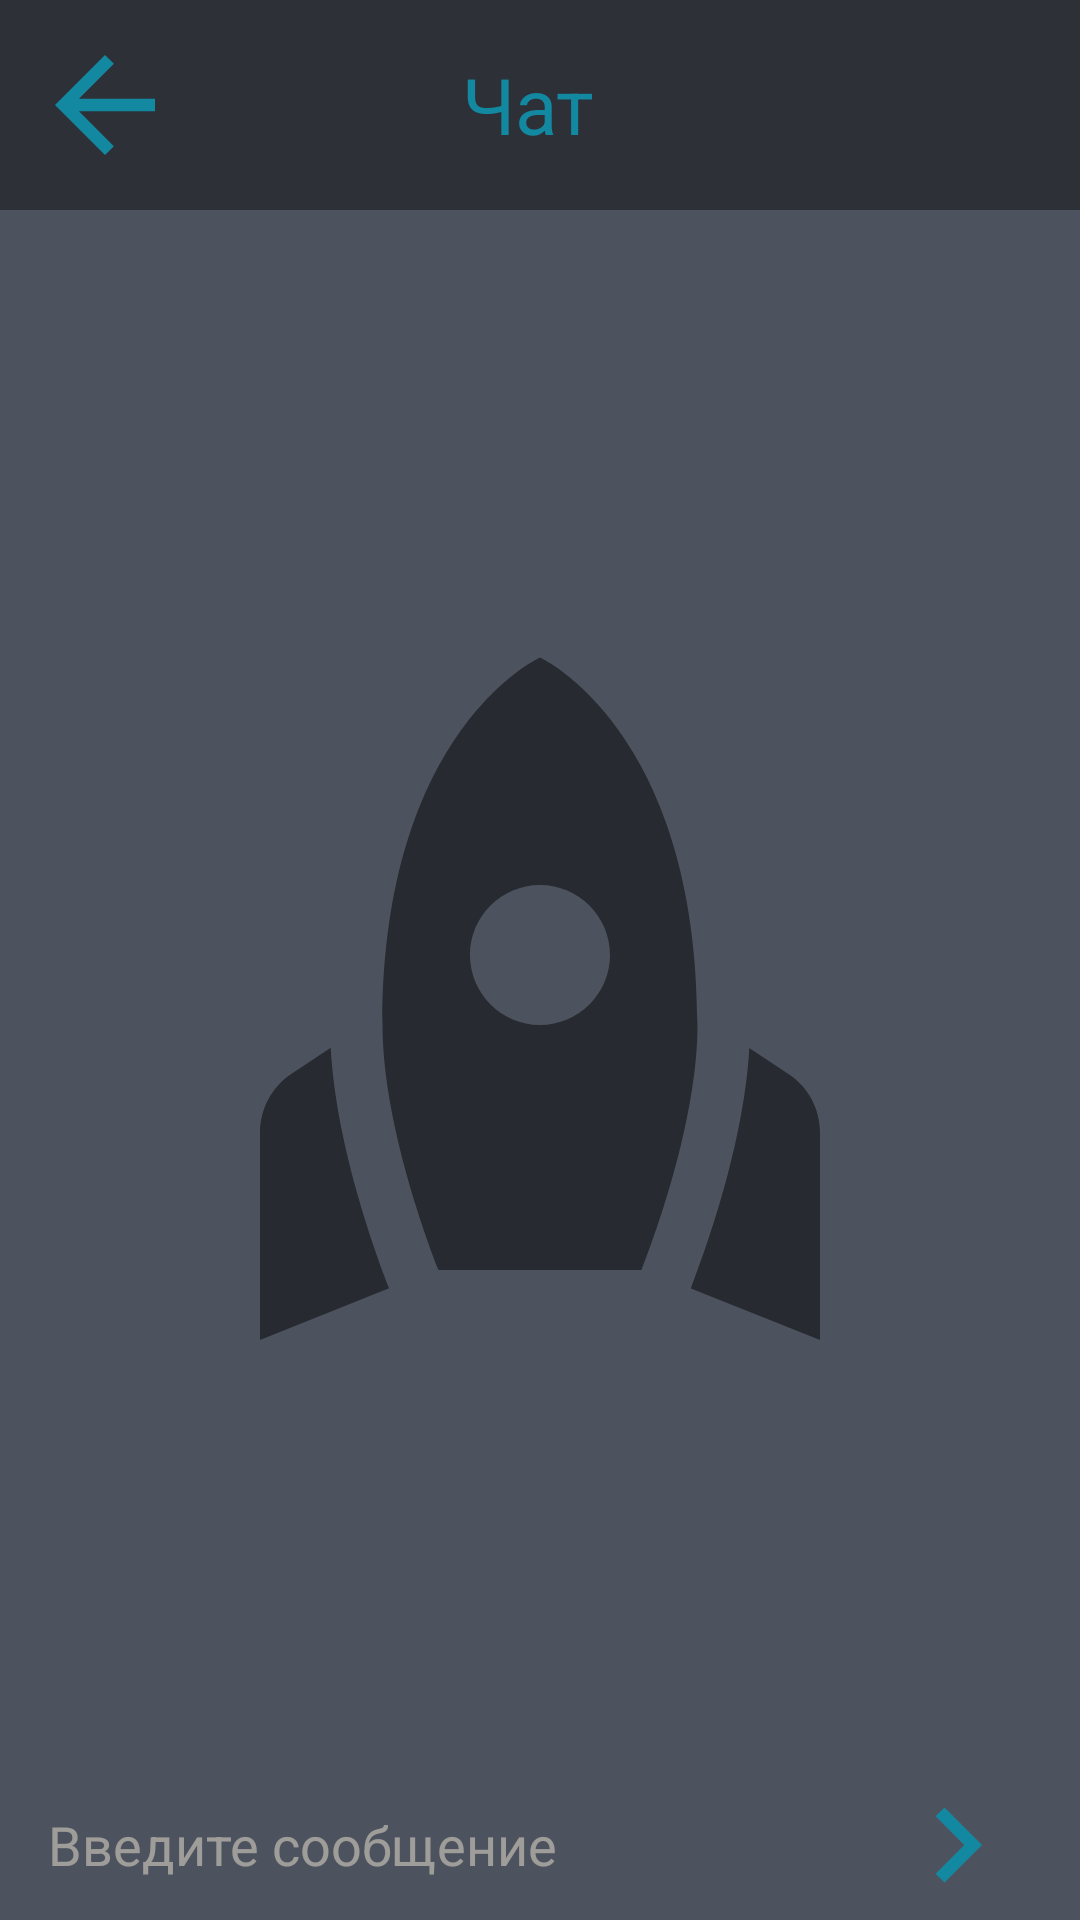

Icons on this 1080x1920 Android screen, each with the point to tap as (x=x, y=y):
back: (x=105, y=105)
